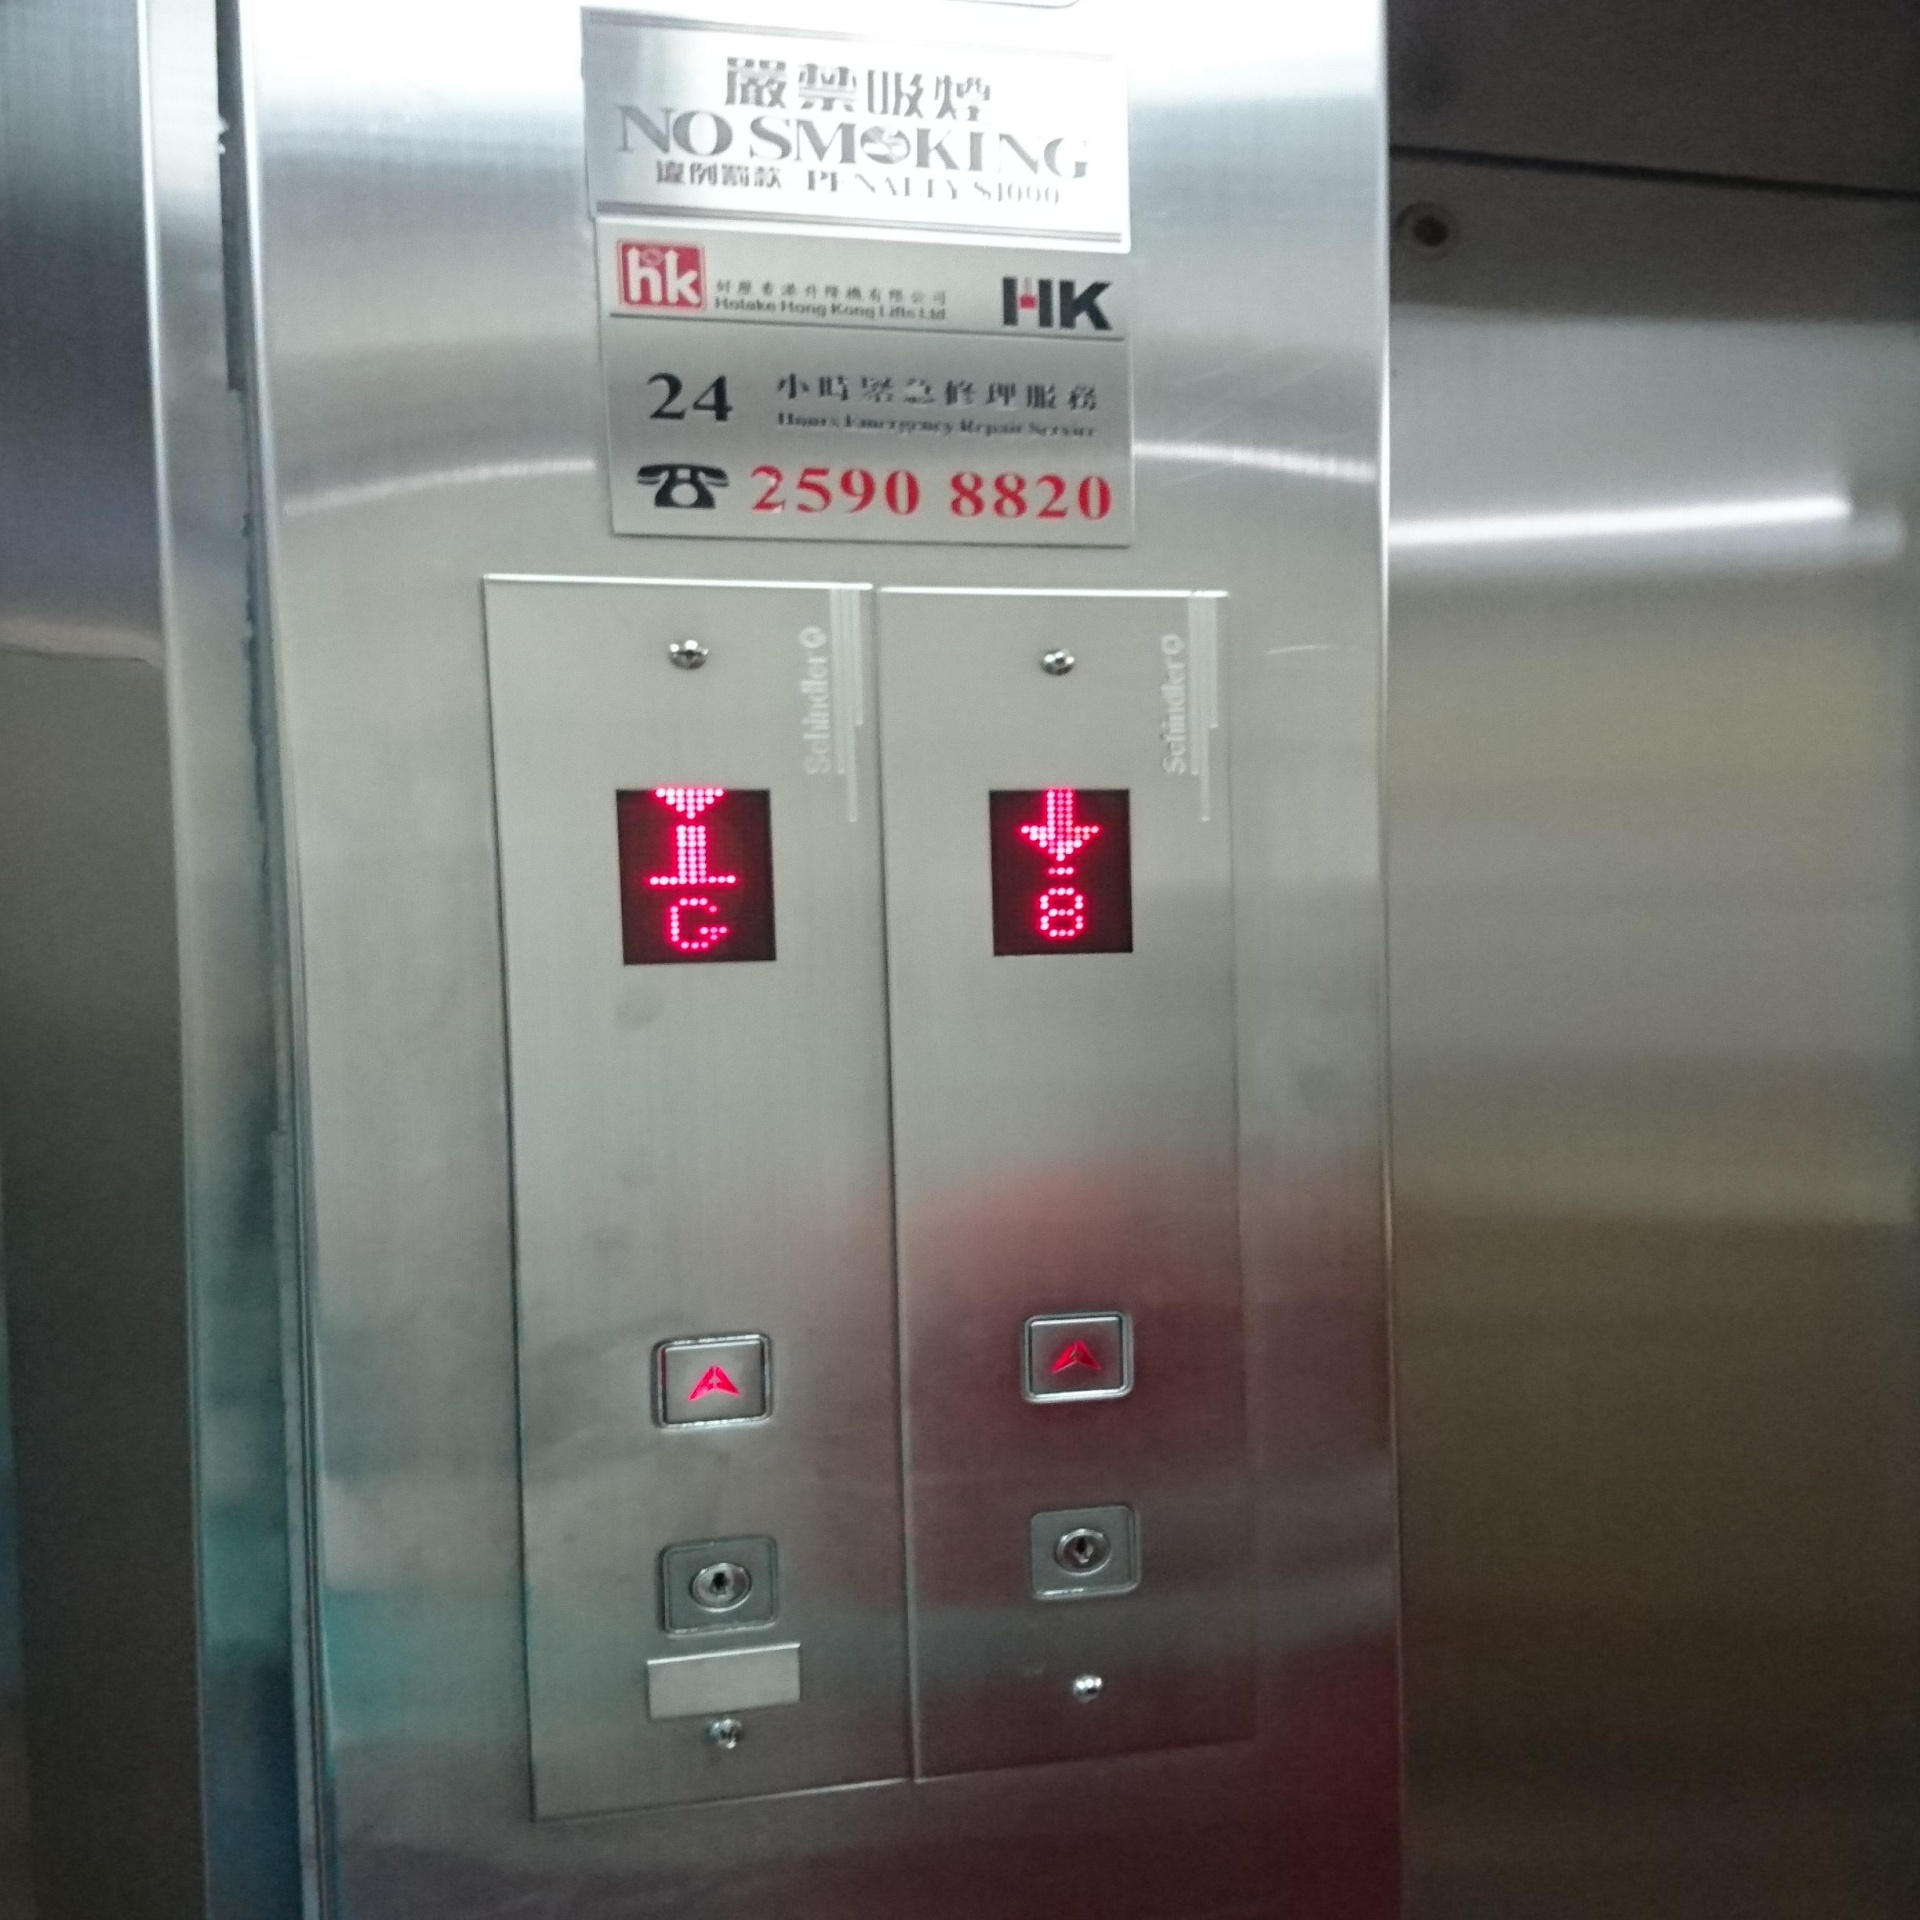bt_keyhole: (644, 1531, 788, 1642), (1022, 1500, 1148, 1611)
led: (605, 768, 789, 976), (986, 775, 1139, 965)
up: (1011, 1305, 1138, 1412), (645, 1336, 781, 1435)
